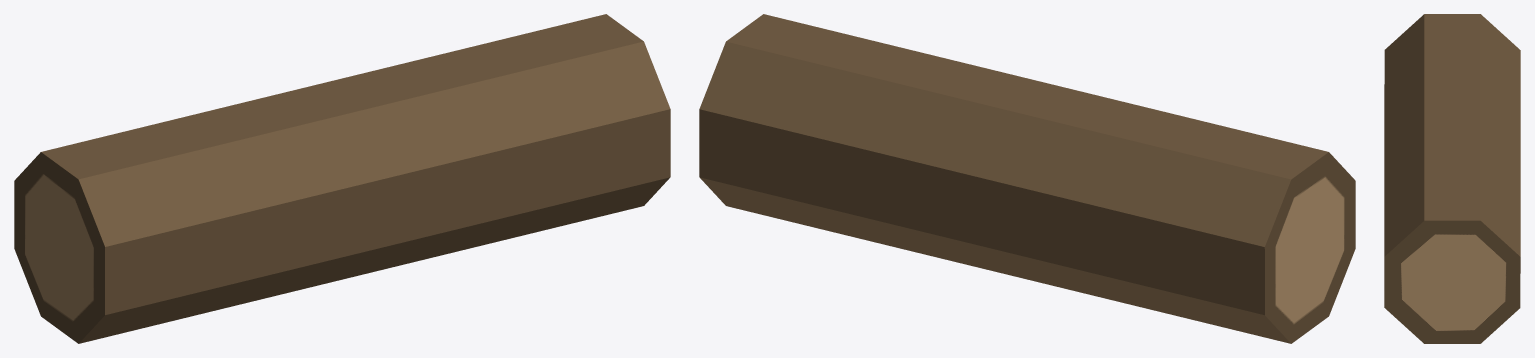
File: log_01.FBX
3 views of the same model, side by side, from view 1: azimuth 30°, elevation 25°; view 2: azimuth 150°, elevation 25°; view 3: azimuth 270°, elevation 25° (orthographic). The views are drawn at different scales.
Visible parts, largest first — view 1: log_01; view 2: log_01; view 3: log_01.
Boxes of the visible parts, left/top/right/bottom form: log_01: left=14, top=14, right=670, bottom=343; log_01: left=699, top=14, right=1355, bottom=343; log_01: left=1384, top=14, right=1520, bottom=343.
Bounding box in the file's own units: 65.51 × 18.22 × 18.22.
Materials: 1 (1 with a texture image).
